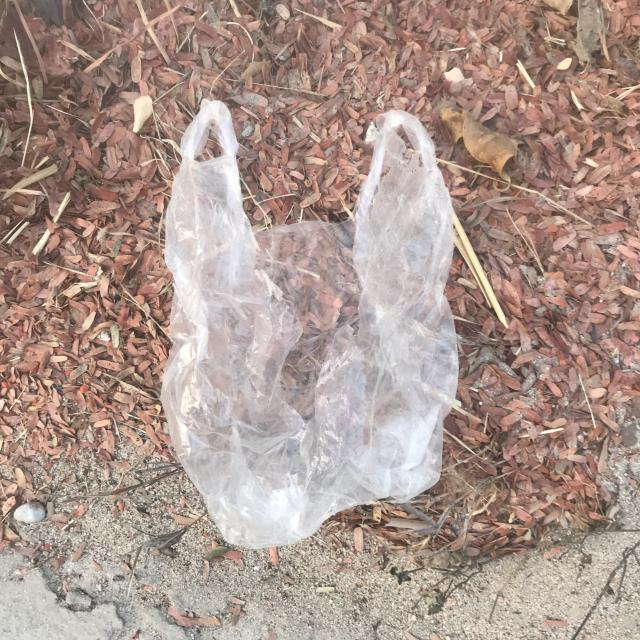Single-layer Plastic: (161, 101, 458, 549)
